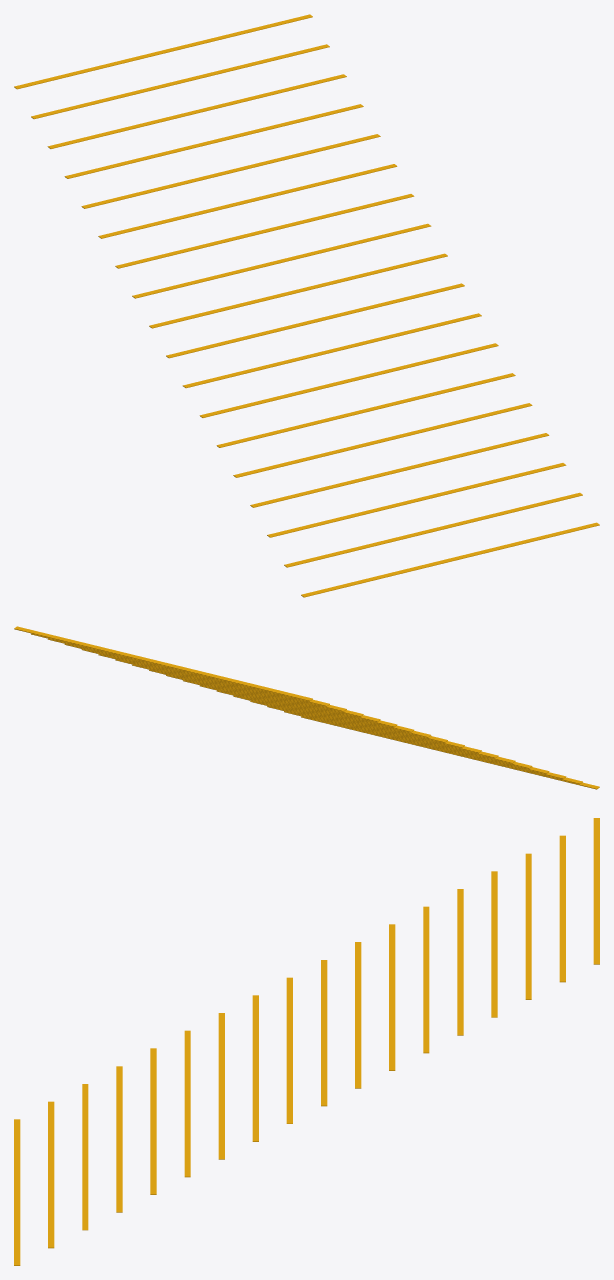
The model's file is gteki_ik_stair_n18_r172_t300_w3054_nosing.glb.
3 renders of one model, top to bottom at view 1: azimuth 30°, elevation 25°; view 2: azimuth 150°, elevation 25°; view 3: azimuth 270°, elevation 25°, orthographic.
Parts seen in each view (by area): view 1: VIS_body; view 2: VIS_body; view 3: VIS_body.
Part boxes in pixels (x1,y1,x2,y2): VIS_body: [14, 14, 599, 597]; VIS_body: [14, 626, 599, 789]; VIS_body: [14, 818, 599, 1265].
Size of the model in its own units: 3.04 by 2.93 by 5.15.
Materials: 1 (1 with a texture image).
